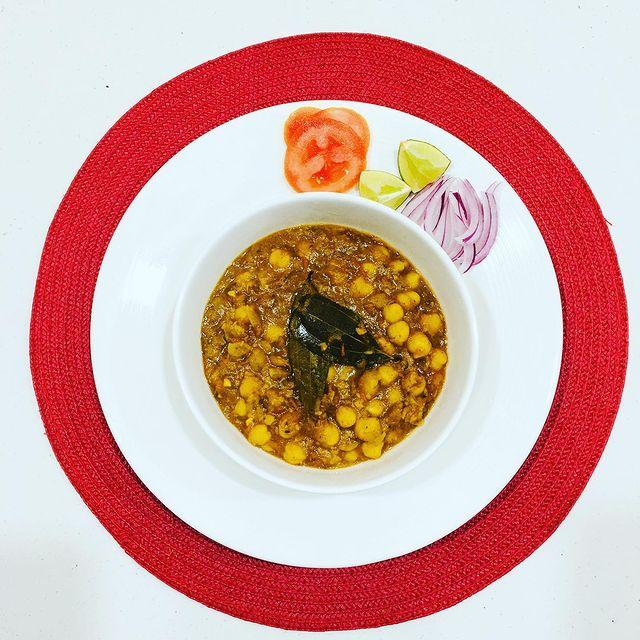Chole: (298, 325, 435, 463)
